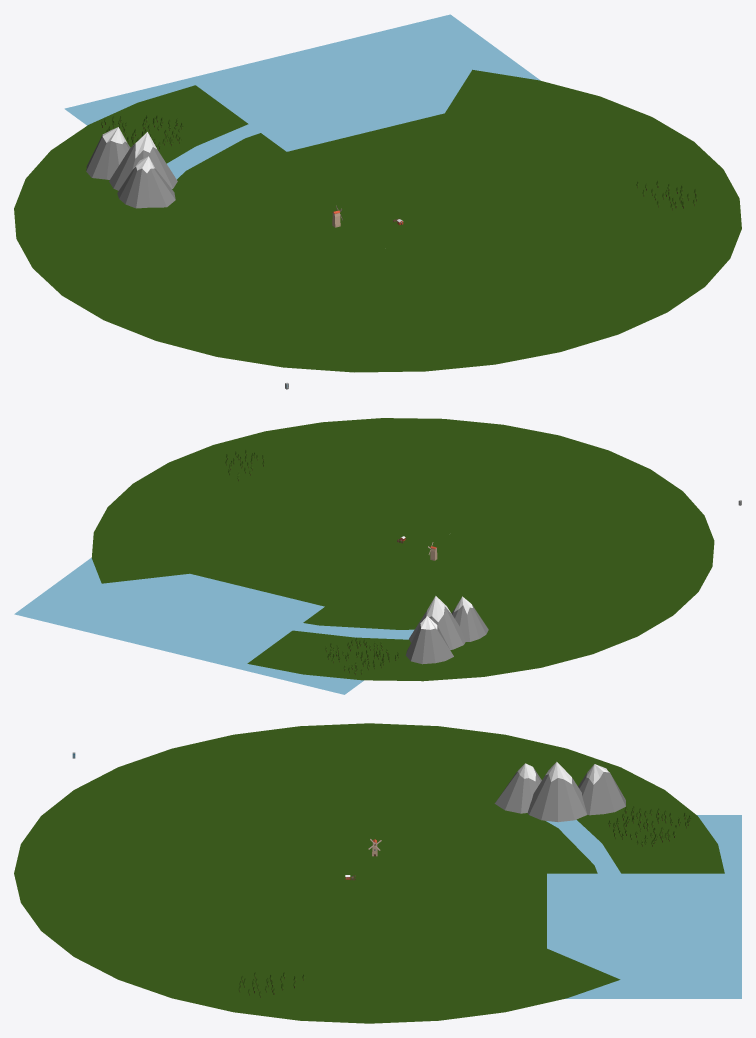
File: moonshine-mission-map.glb
3 renders of one model, top to bottom at view 1: azimuth 30°, elevation 25°; view 2: azimuth 150°, elevation 25°; view 3: azimuth 270°, elevation 25°, orthographic. The views are drawn at different scales.
Visible parts, largest first — view 1: ground, water, mountain; view 2: ground, water, mountain; view 3: ground, water, mountain.
Part boxes in pixels (<box>): ground: <box>14,69,741,372</box>; water: <box>64,14,540,179</box>; mountain: <box>86,127,177,208</box>; ground: <box>91,418,714,681</box>; water: <box>14,557,414,694</box>; mountain: <box>405,596,488,664</box>; ground: <box>14,723,724,1023</box>; water: <box>546,815,741,998</box>; mountain: <box>494,762,625,822</box>.
Bounding box in the file's own units: 3081 × 256 × 3155.
Materials: 3 (3 with a texture image).
